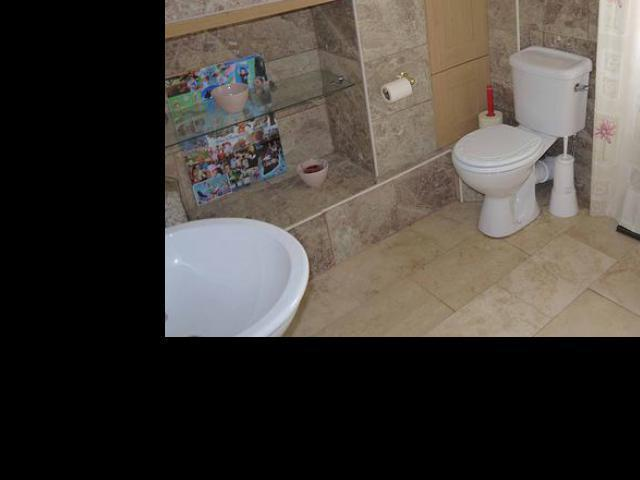Lavamanos: (137, 209, 310, 358)
Sanitario: (446, 43, 594, 239)
